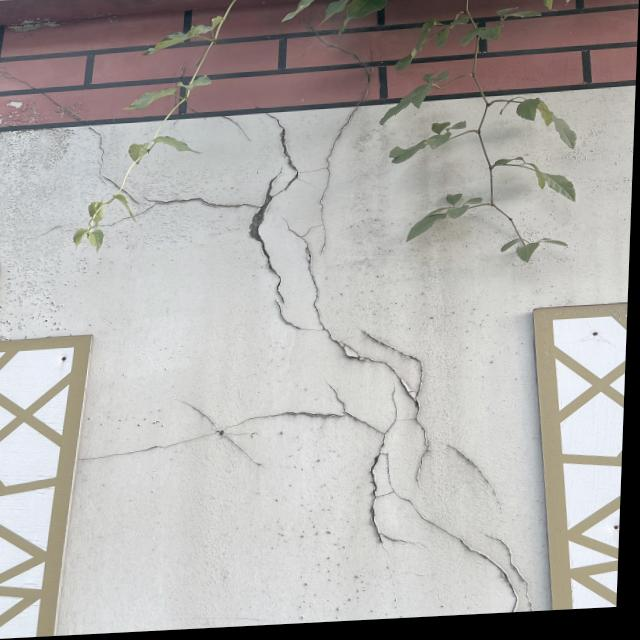crack: (72, 9, 536, 608)
